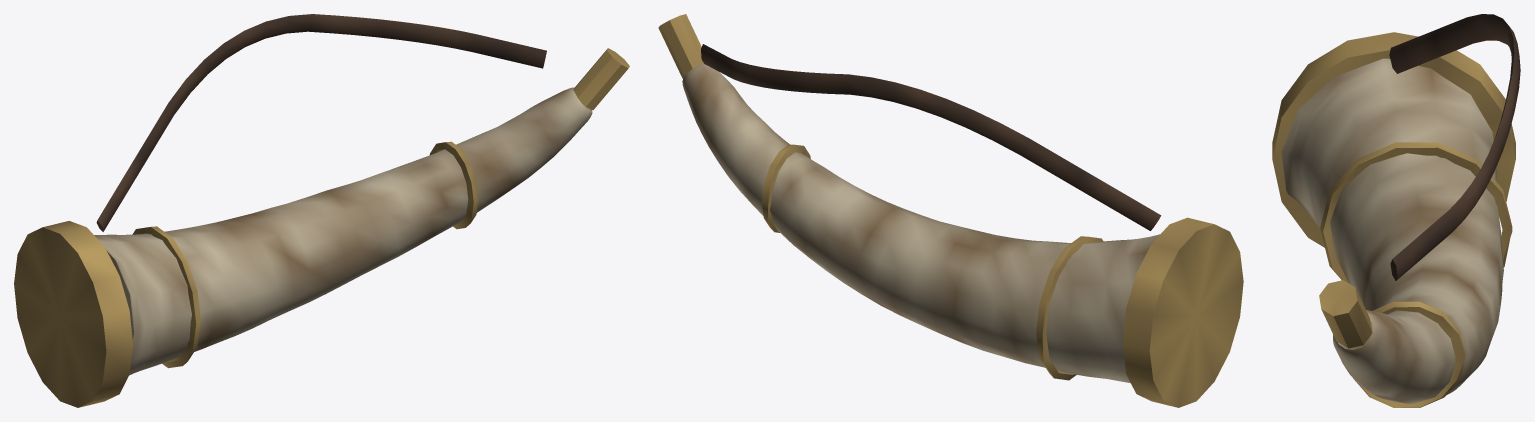
The model's file is black-powder.glb.
3 renders of one model, left to right at view 1: azimuth 30°, elevation 25°; view 2: azimuth 150°, elevation 25°; view 3: azimuth 270°, elevation 25°, orthographic. The views are drawn at different scales.
Parts seen in each view (by area): view 1: black-powder; view 2: black-powder; view 3: black-powder.
Part boxes in pixels (x1,y1,x2,y2): black-powder: (14, 14, 629, 407); black-powder: (658, 14, 1243, 407); black-powder: (1272, 14, 1520, 407).
Bounding box in the file's own units: 0.2459 × 0.1227 × 0.0734.
